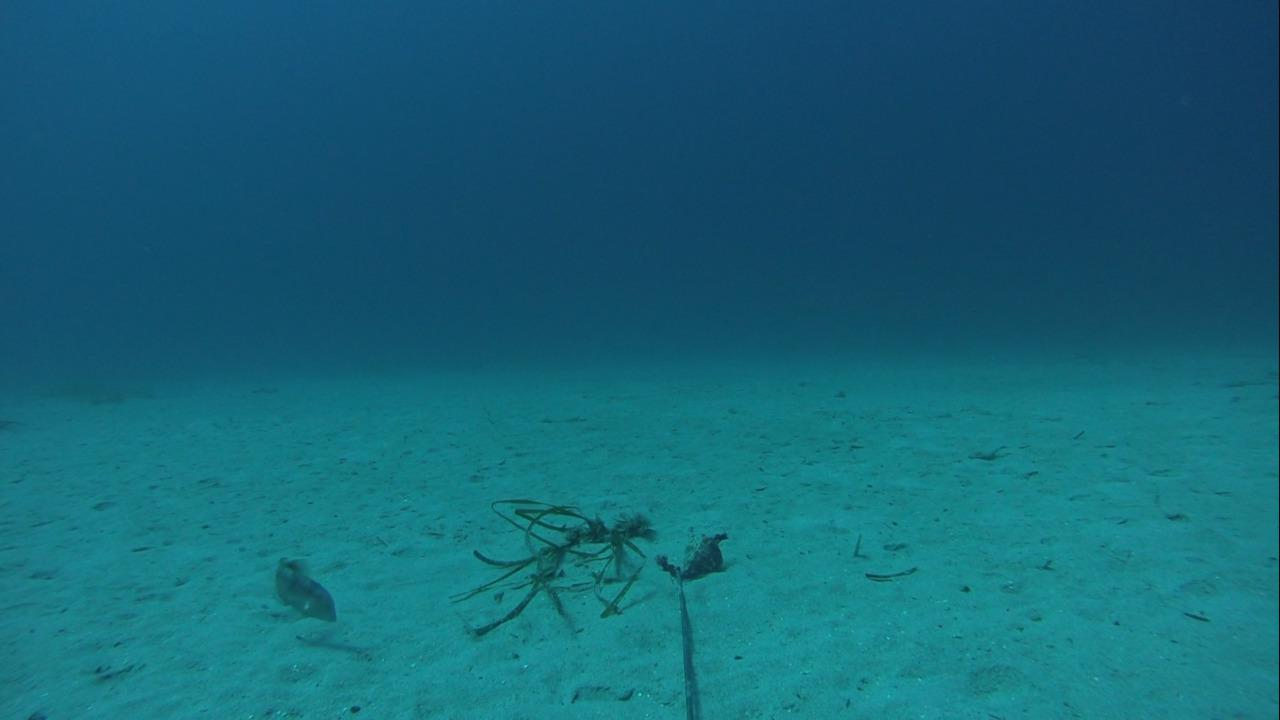raor: (265, 551, 337, 624)
